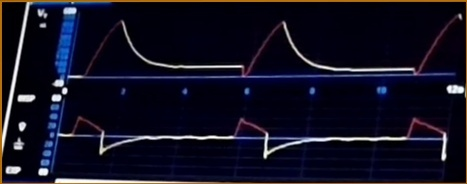Flow: (66, 106, 450, 172)
Leakage Volume: (75, 13, 464, 82)
